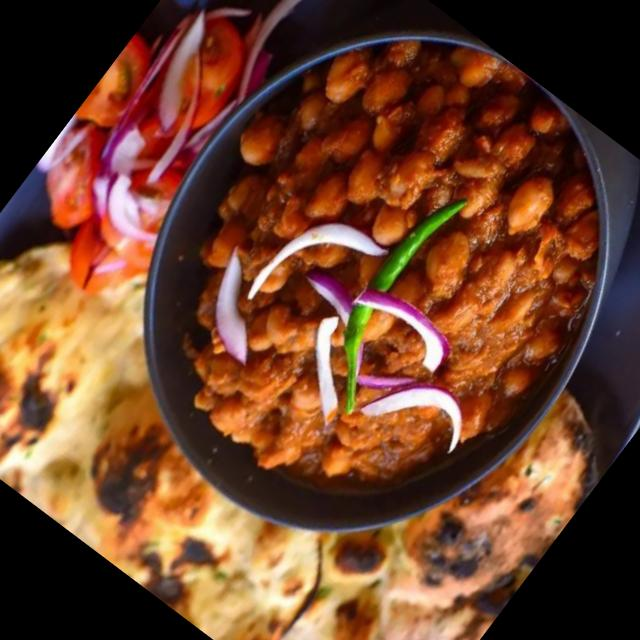Chole: (88, 0, 640, 570)
